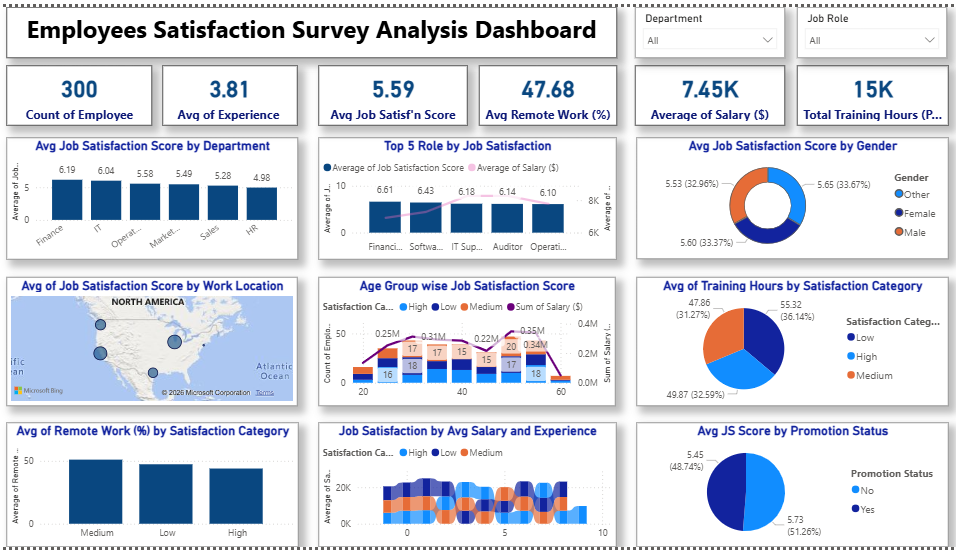

Layout of this report page (visuals, bound fields, positions):
{"tool":"powerbi","page":{"name":"Page 1","canvas":[1280,720],"ordinal":0},"visuals":[{"type":"textbox","box":[10,0,814,68],"z":0},{"type":"columnChart","title":"Avg Job Satisfaction Score by Department","fields":{"Category":["Employee_Performance_data.Department"],"Y":["Avg(Employee_Performance_data.Job Satisfaction Score)"]},"box":[10,174.3,388.6,162.9],"z":1000},{"type":"card","fields":{"Values":["CountNonNull(Employee_Performance_data.Employee ID)"]},"box":[10,78.6,194.3,80],"z":2000},{"type":"card","fields":{"Values":["Avg(Employee_Performance_data.Experience (Years))"]},"box":[218.6,78.6,180,80],"z":3000},{"type":"lineStackedColumnComboChart","title":"Top 5 Role by Job Satisfaction","fields":{"Category":["Employee_Performance_data.Job Role"],"Y":["Avg(Employee_Performance_data.Job Satisfaction Score)"],"Y2":["Avg(Employee_Performance_data.Salary ($))"]},"box":[425.7,174.3,397.1,162.9],"z":4000},{"type":"card","fields":{"Values":["Avg(Employee_Performance_data.Job Satisfaction Score)"]},"box":[425.7,78.6,198.6,80],"z":5000},{"type":"card","fields":{"Values":["Avg(Employee_Performance_data.Remote Work (%))"]},"box":[640,78.6,184.3,80],"z":6000},{"type":"donutChart","title":"Avg Job Satisfaction Score by Gender","fields":{"Category":["Employee_Performance_data.Gender"],"Y":["Avg(Employee_Performance_data.Job Satisfaction Score)"]},"box":[850,174,416,162],"z":7000},{"type":"card","fields":{"Values":["Avg(Employee_Performance_data.Salary ($))"]},"box":[848.6,78.6,200,80],"z":8000},{"type":"card","fields":{"Values":["Sum(Employee_Performance_data.Training Hours (Per Year))"]},"box":[1064,78,202,80],"z":9000},{"type":"map","title":"Avg of Job Satisfaction Score by Work Location","fields":{"Category":["Employee_Performance_data.Work Location"],"Size":["Avg(Employee_Performance_data.Job Satisfaction Score)"]},"box":[10,360,388,172],"z":9001},{"type":"lineStackedColumnComboChart","title":"Age Group wise Job Satisfaction Score","fields":{"Category":["Employee_Performance_data.Age (bins)"],"Y":["CountNonNull(Employee_Performance_data.Employee ID)"],"Series":["Employee_Performance_data.Satisfaction Category"],"Y2":["Sum(Employee_Performance_data.Salary ($))"]},"box":[426,360,396,172],"z":9002},{"type":"pieChart","title":"Avg of Training Hours by Satisfaction Category","fields":{"Category":["Employee_Performance_data.Satisfaction Category"],"Y":["Avg(Employee_Performance_data.Training Hours (Per Year))"]},"box":[850,360,416,172],"z":9003},{"type":"pieChart","title":"Avg JS Score by Promotion Status","fields":{"Category":["Employee_Performance_data.Promotion Status"],"Y":["Avg(Employee_Performance_data.Job Satisfaction Score)"]},"box":[850,554,416,166],"z":9004},{"type":"columnChart","title":"Avg of Remote Work (%) by Satisfaction Category","fields":{"Category":["Employee_Performance_data.Satisfaction Category"],"Y":["Avg(Employee_Performance_data.Remote Work (%))"]},"box":[10,554,389,166],"z":9005},{"type":"ribbonChart","title":"Job Satisfaction by Avg Salary and Experience","fields":{"Y":["Avg(Employee_Performance_data.Salary ($))"],"Series":["Employee_Performance_data.Satisfaction Category"],"Category":["Employee_Performance_data.Experience (Years) (bins)"]},"box":[426,554,397,166],"z":9006},{"type":"slicer","fields":{"Values":["Employee_Performance_data.Department"]},"box":[848,0,200,68],"z":9007},{"type":"slicer","fields":{"Values":["Employee_Performance_data.Job Role"]},"box":[1064,0,200,68],"z":9008}]}

Visuals, with their boxes in screenshot pixels (x1, y1, x2, y2), scaled from the page's 1280x720 canvas onto the 956x550 screenshot:
textbox: 7, 0, 615, 52
"Avg Job Satisfaction Score by Department" columnChart: 7, 133, 298, 258
card - CountNonNull(Employee_Performance_data.Employee ID): 7, 60, 153, 121
card - Avg(Employee_Performance_data.Experience (Years)): 163, 60, 298, 121
"Top 5 Role by Job Satisfaction" lineStackedColumnComboChart: 318, 133, 615, 258
card - Avg(Employee_Performance_data.Job Satisfaction Score): 318, 60, 466, 121
card - Avg(Employee_Performance_data.Remote Work (%)): 478, 60, 616, 121
"Avg Job Satisfaction Score by Gender" donutChart: 635, 133, 946, 257
card - Avg(Employee_Performance_data.Salary ($)): 634, 60, 783, 121
card - Sum(Employee_Performance_data.Training Hours (Per Year)): 795, 60, 946, 121
"Avg of Job Satisfaction Score by Work Location" map: 7, 275, 297, 406
"Age Group wise Job Satisfaction Score" lineStackedColumnComboChart: 318, 275, 614, 406
"Avg of Training Hours by Satisfaction Category" pieChart: 635, 275, 946, 406
"Avg JS Score by Promotion Status" pieChart: 635, 423, 946, 549
"Avg of Remote Work (%) by Satisfaction Category" columnChart: 7, 423, 298, 549
"Job Satisfaction by Avg Salary and Experience" ribbonChart: 318, 423, 615, 549
slicer - Employee_Performance_data.Department: 633, 0, 783, 52
slicer - Employee_Performance_data.Job Role: 795, 0, 944, 52
